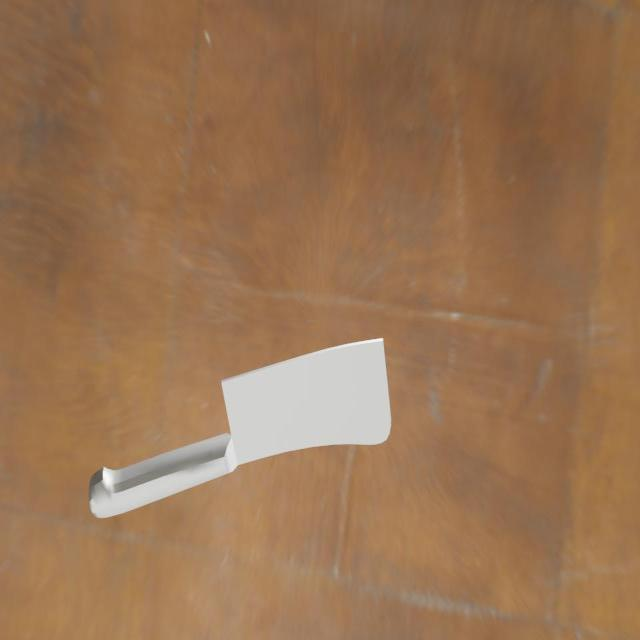knife: (79, 438, 234, 528)
